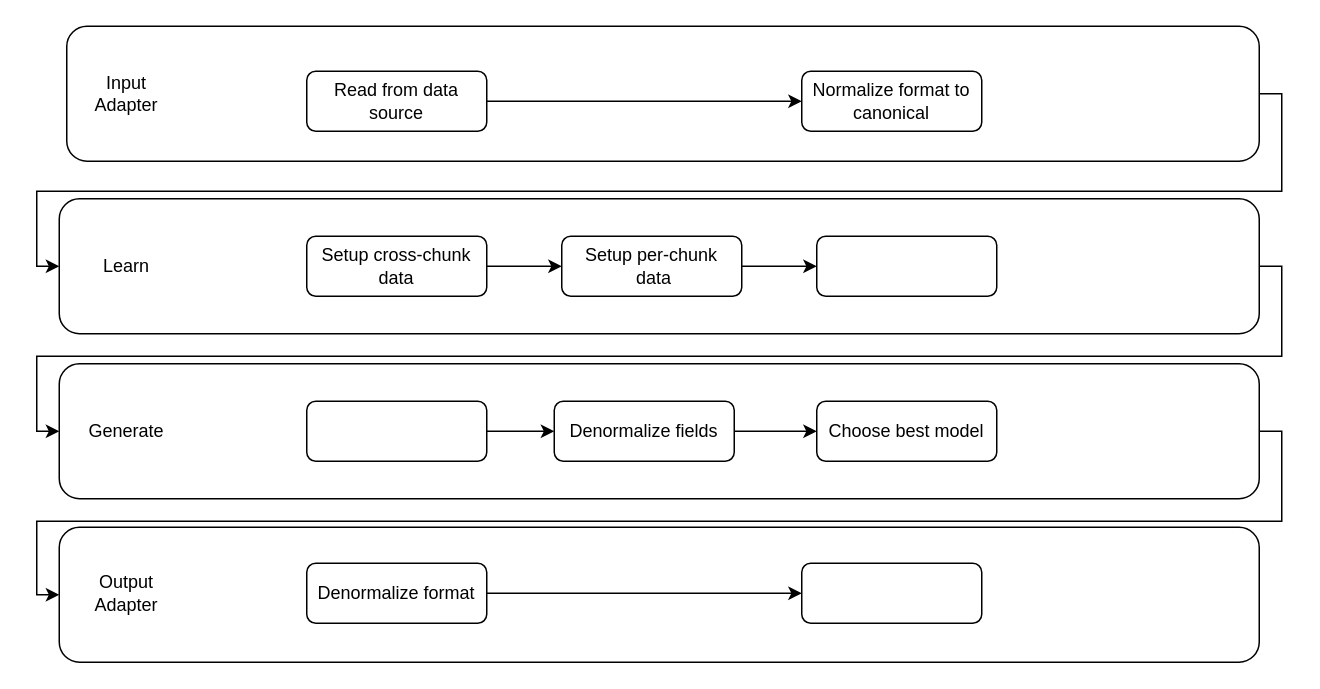
Image size: 1320x689. Some labels were removed from this diagram. The shapes that lost their labels are listed below. From the top down, each one's box as (x1, y1, x2, y2) in pixels, then its label:
(815, 235, 997, 296): Train using doppelGANger
(305, 400, 487, 461): Generate using doppelGANger
(800, 562, 982, 623): Write to output
